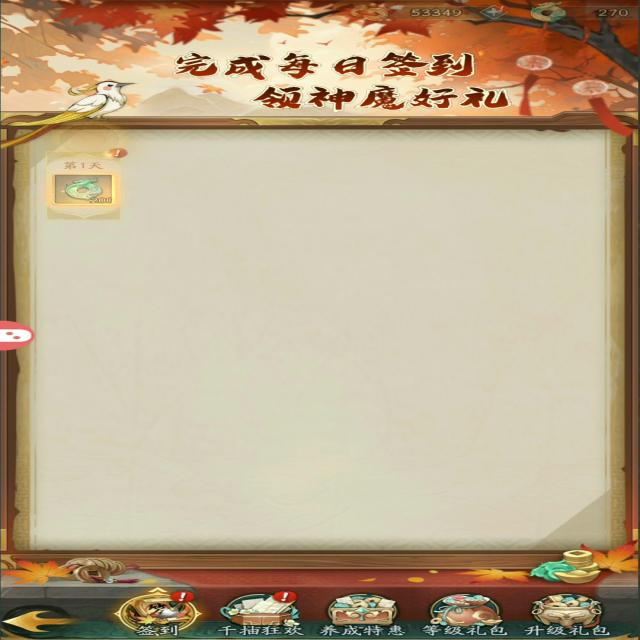hint-reddot: (166, 589, 200, 606), (269, 590, 302, 606), (109, 146, 140, 162), (492, 2, 512, 15)
operation-DevelopSpecialOffers: (321, 586, 414, 636)
operation-GradeGift: (418, 592, 512, 638)
operation-UpgradeGift: (519, 587, 614, 640)
operation-back: (0, 605, 82, 640)
operation-qianchoukuanghuan: (217, 585, 314, 640)
operation-signin: (105, 582, 208, 638)
